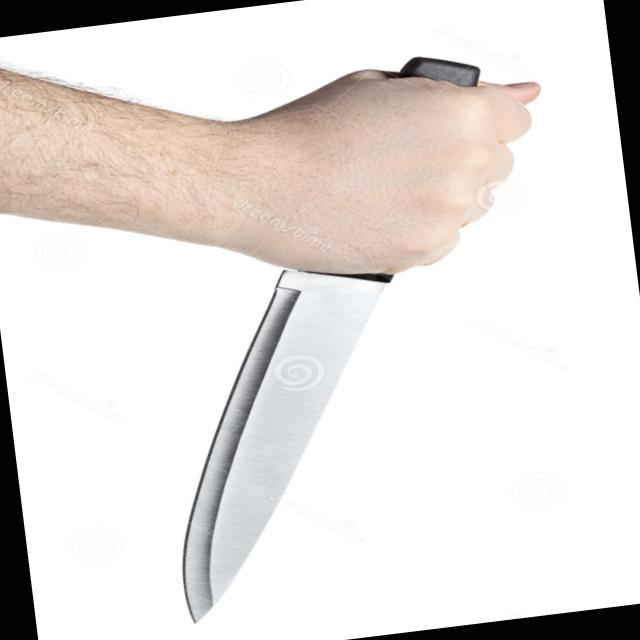knife: (117, 147, 576, 637)
